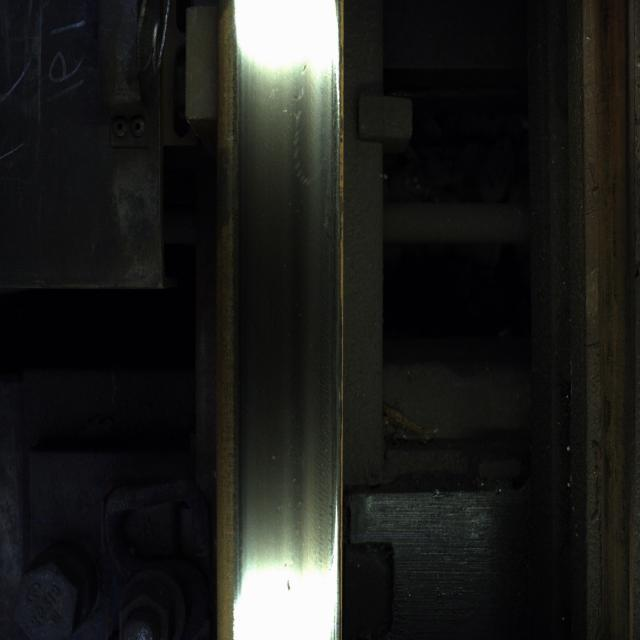break: (261, 24, 329, 596)
